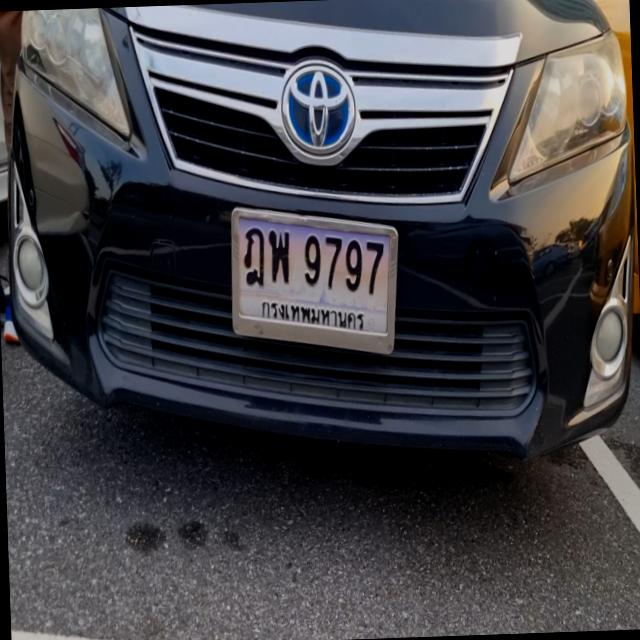license_plate: (229, 198, 402, 362)
